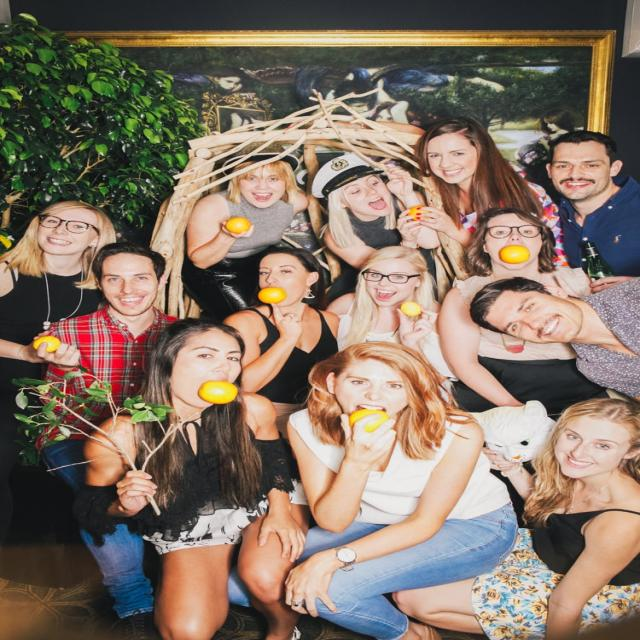body: (25, 238, 256, 639), (223, 341, 519, 640), (71, 319, 317, 640), (429, 203, 616, 537), (388, 394, 639, 640), (0, 199, 118, 546), (392, 115, 569, 304), (144, 49, 516, 134), (465, 270, 640, 408), (179, 141, 310, 324), (220, 246, 344, 429), (310, 152, 442, 314), (328, 242, 451, 383), (542, 128, 640, 295)
